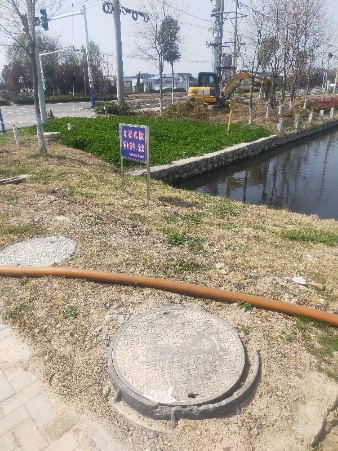good: (1, 236, 79, 268)
uncovered: (107, 304, 262, 421)
